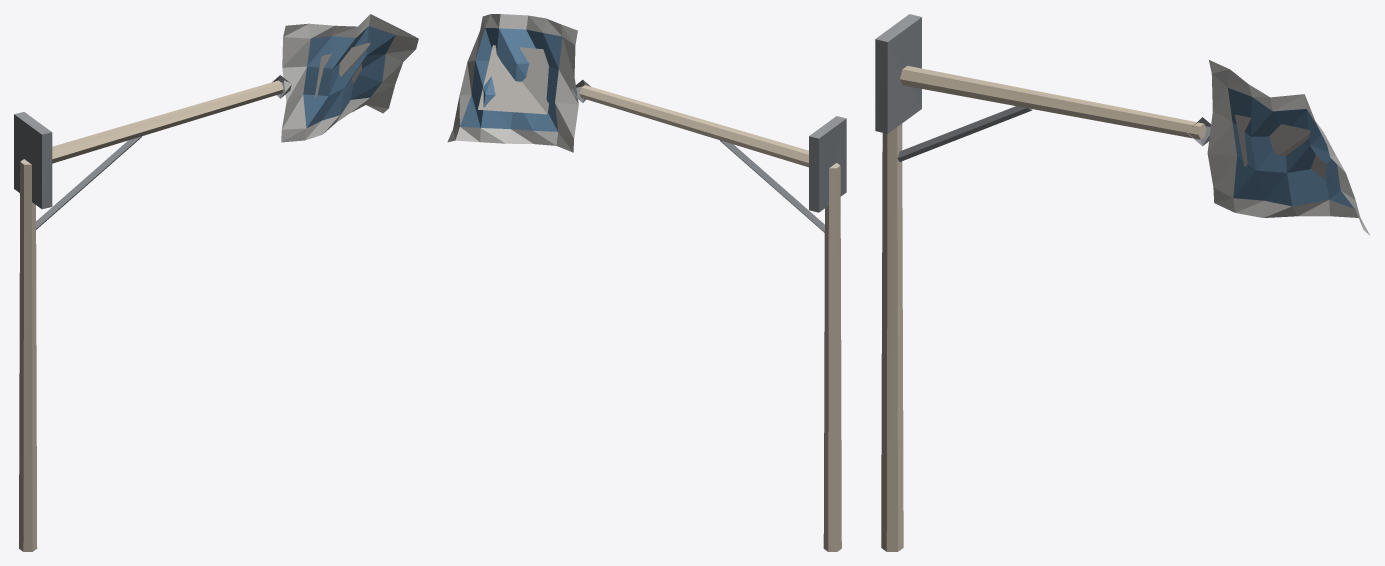
The model's file is flag.square.qingqi__pole.horizontal.xiecheng__armFly.glb.
The picture shows the model from 3 angles, left to right: view 1: azimuth 30°, elevation 25°; view 2: azimuth 150°, elevation 25°; view 3: azimuth 330°, elevation 25°; orthographic projection. The views are drawn at different scales.
Visible parts, largest first — view 1: flag.square.qingqi; view 2: flag.square.qingqi; view 3: flag.square.qingqi.
Boxes of the visible parts, box(x1,y1,x2,y2) form: flag.square.qingqi: box(14, 14, 418, 551); flag.square.qingqi: box(447, 14, 846, 551); flag.square.qingqi: box(875, 14, 1369, 551).
Bounding box in the file's own units: 2.97 × 3.45 × 0.5482.
